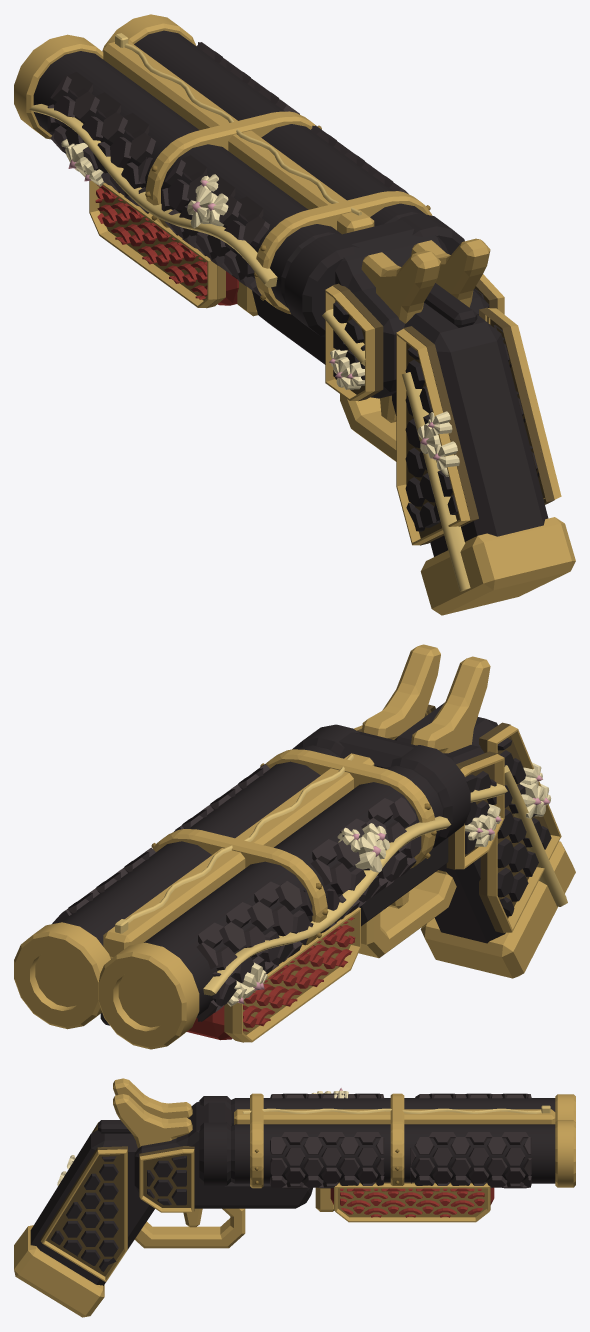
The model's file is w_sawnoff@sawnoff_twintide.glb.
The picture shows the model from 3 angles, top to bottom: view 1: azimuth 30°, elevation 25°; view 2: azimuth 150°, elevation 25°; view 3: azimuth 270°, elevation 25°; orthographic projection. The views are drawn at different scales.
Visible parts, largest first — view 1: hinge_wzB, grip_wzA, grip_wzN, hinge_wzN, hinge_wzA, body_wzB, grip_wzB, body_wzN, hinge_wzN.002, forend_wzA, hinge_trim_wzN, hammerL_wzN (+9 smaller); view 2: hinge_wzB, hinge_trim_wzN, hinge_wzN, hinge_wzA, grip_wzN, body_wzB, grip_wzA, body_wzN, hinge_wzN.002, forend_wzA, hammerL_wzN, hammerR_wzN (+9 smaller); view 3: hinge_wzB, hinge_wzA, grip_wzA, body_wzB, hinge_wzN, grip_wzN, body_wzN, grip_wzB, forend_wzA, forend_wzB, hammerR_wzN, hinge_trim_wzN (+6 smaller).
Boxes of the visible parts, bbox=[...] form: hinge_wzB: bbox=[33, 30, 425, 308]; grip_wzA: bbox=[392, 303, 548, 556]; grip_wzN: bbox=[396, 308, 575, 615]; hinge_wzN: bbox=[103, 40, 432, 314]; hinge_wzA: bbox=[47, 42, 408, 296]; body_wzB: bbox=[252, 213, 489, 398]; grip_wzB: bbox=[403, 307, 554, 545]; body_wzN: bbox=[325, 274, 504, 461]; hinge_wzN.002: bbox=[29, 43, 361, 287]; forend_wzA: bbox=[95, 185, 238, 305]; hinge_trim_wzN: bbox=[14, 14, 196, 139]; hammerL_wzN: bbox=[361, 250, 440, 323]; hinge_wzB: bbox=[60, 745, 443, 1025]; hinge_trim_wzN: bbox=[14, 922, 199, 1049]; hinge_wzN: bbox=[103, 749, 435, 958]; hinge_wzA: bbox=[52, 764, 421, 1021]; grip_wzN: bbox=[420, 709, 575, 978]; body_wzB: bbox=[292, 702, 484, 926]; grip_wzA: bbox=[435, 717, 551, 943]; body_wzN: bbox=[354, 725, 504, 958]; hinge_wzN.002: bbox=[126, 754, 451, 995]; forend_wzA: bbox=[187, 917, 355, 1040]; hammerL_wzN: bbox=[411, 656, 490, 753]; hammerR_wzN: bbox=[361, 644, 440, 739]; hinge_wzB: bbox=[231, 1098, 555, 1183]; hinge_wzA: bbox=[270, 1093, 531, 1188]; grip_wzA: bbox=[30, 1130, 154, 1285]; body_wzB: bbox=[98, 1096, 312, 1208]; hinge_wzN: bbox=[234, 1093, 555, 1188]; grip_wzN: bbox=[14, 1122, 127, 1317]; body_wzN: bbox=[134, 1149, 245, 1248]; grip_wzB: bbox=[40, 1123, 127, 1276]; forend_wzA: bbox=[330, 1187, 494, 1217]; forend_wzB: bbox=[334, 1182, 490, 1217]; hammerR_wzN: bbox=[113, 1094, 192, 1148]; hinge_trim_wzN: bbox=[555, 1094, 575, 1187].
Bounding box in the file's own units: 0.1215 × 0.2079 × 0.4878.
